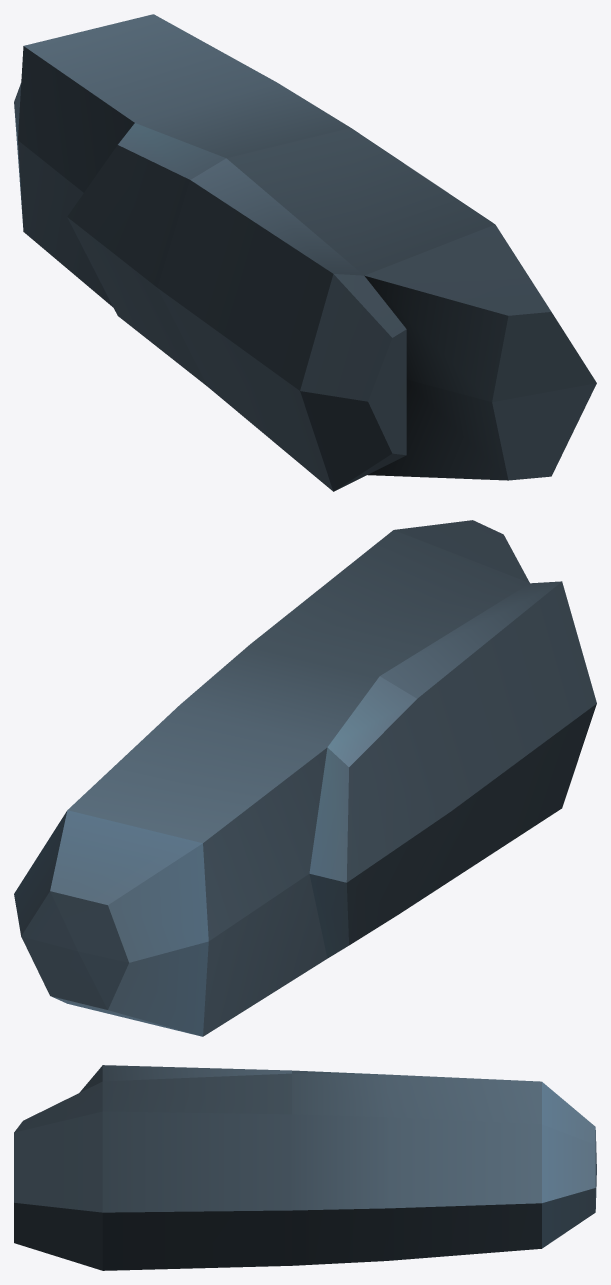
Rendered from CalciteCrystal.001.glb.
3 views of the same model, one above another, from view 1: azimuth 30°, elevation 25°; view 2: azimuth 150°, elevation 25°; view 3: azimuth 270°, elevation 25° (orthographic). The views are drawn at different scales.
Parts seen in each view (by area): view 1: CalciteCrystal.001; view 2: CalciteCrystal.001; view 3: CalciteCrystal.001.
Part boxes in pixels (x1,y1,x2,y2): CalciteCrystal.001: [14, 14, 596, 491]; CalciteCrystal.001: [14, 520, 596, 1036]; CalciteCrystal.001: [14, 1065, 596, 1270].
Size of the model in its own units: 221 by 192 by 636.
